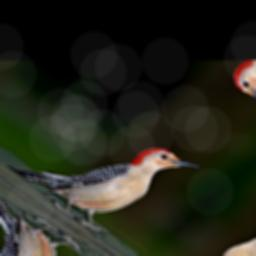Woodpecker: (0, 91, 204, 247)
